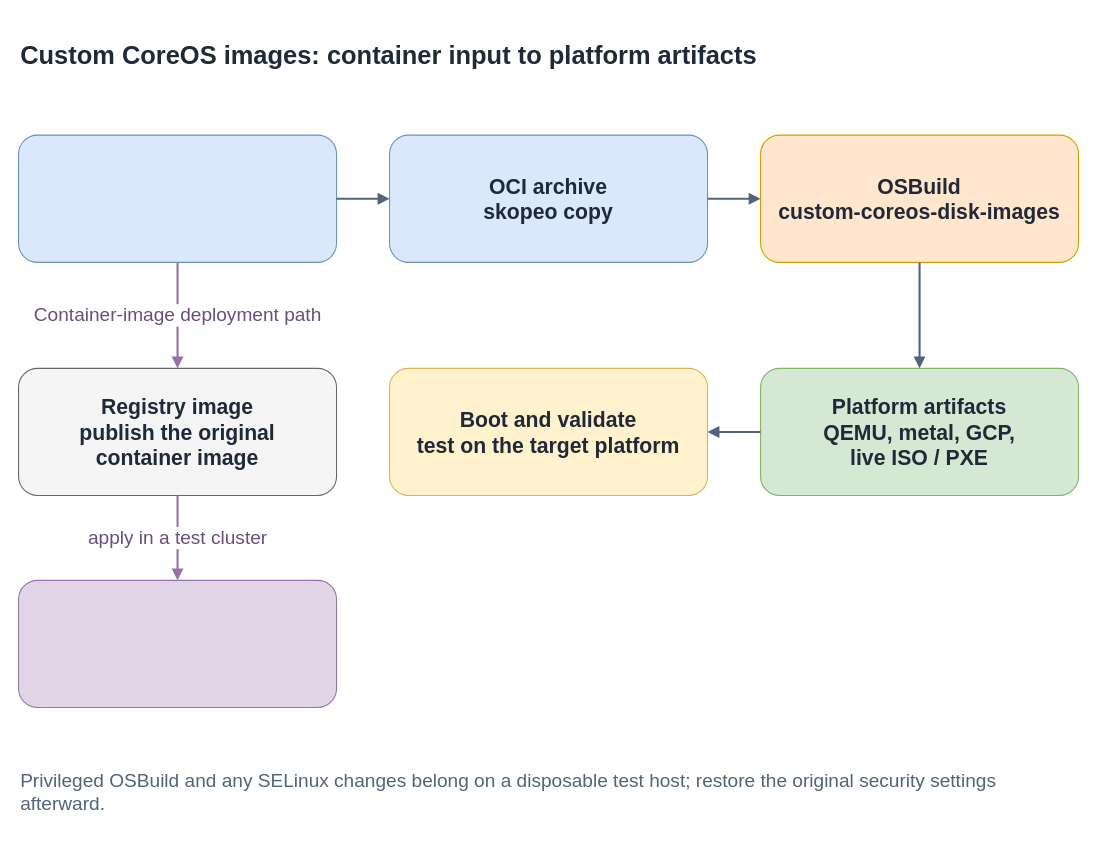
This 1097x852 diagram has some shape labels left out. The centre of each missing label's shape, as x and y in pixels:
"Layered CoreOS image FCOS or RHCOS" belongs at (177,198).
"OpenShift MachineConfig osImageURL references the image digest" belongs at (177,643).
